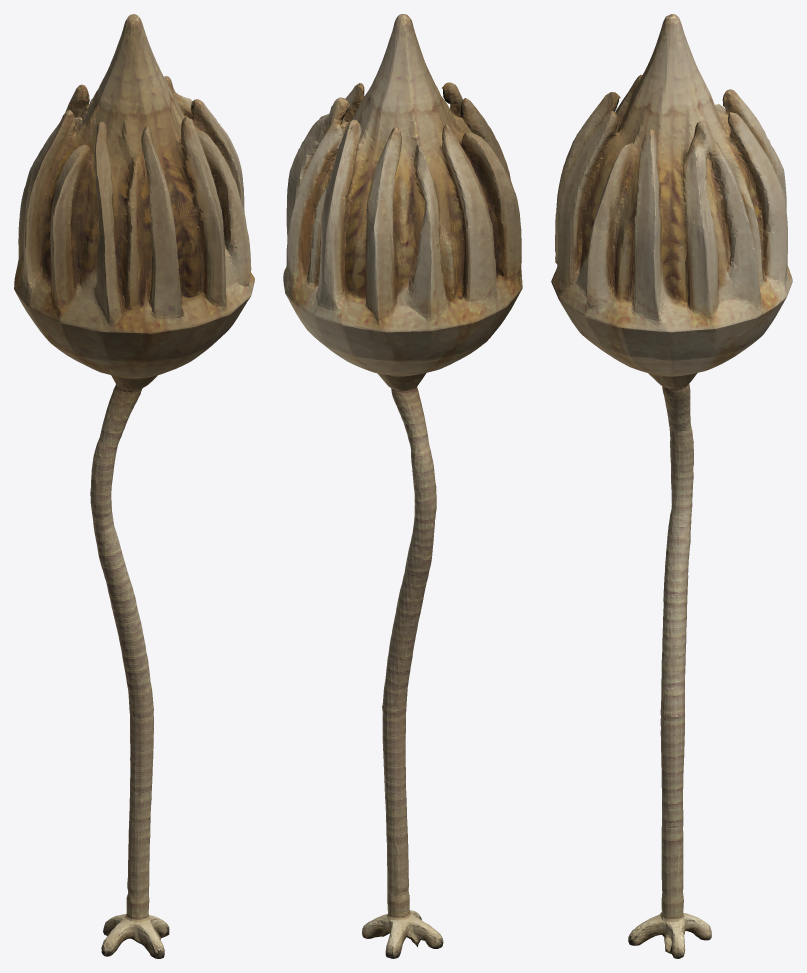
3 renders of one model, left to right at view 1: azimuth 30°, elevation 25°; view 2: azimuth 150°, elevation 25°; view 3: azimuth 270°, elevation 25°, orthographic.
Visible parts, largest first — view 1: world; view 2: world; view 3: world.
Boxes of the visible parts, bbox=[...] form: world: bbox=[14, 14, 254, 958]; world: bbox=[283, 14, 522, 958]; world: bbox=[551, 14, 792, 958].
Bounding box in the file's own units: 0.2346 × 1 × 0.236.
1 material, 1 textured.
